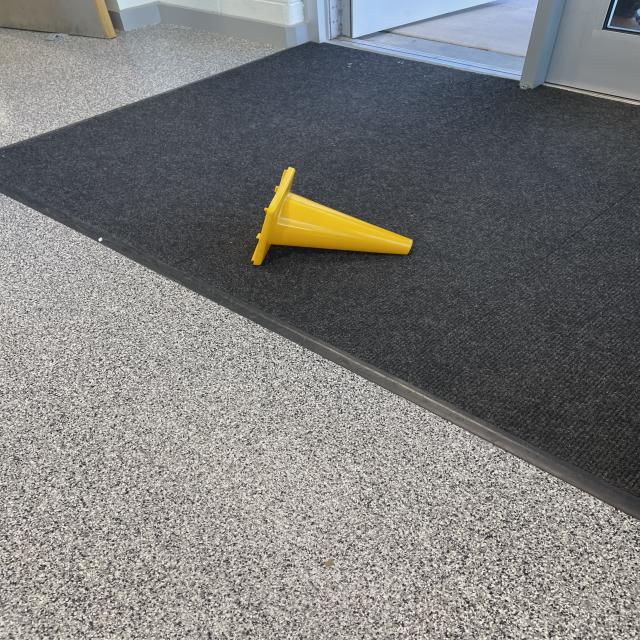frc_cone: (245, 166, 415, 266)
